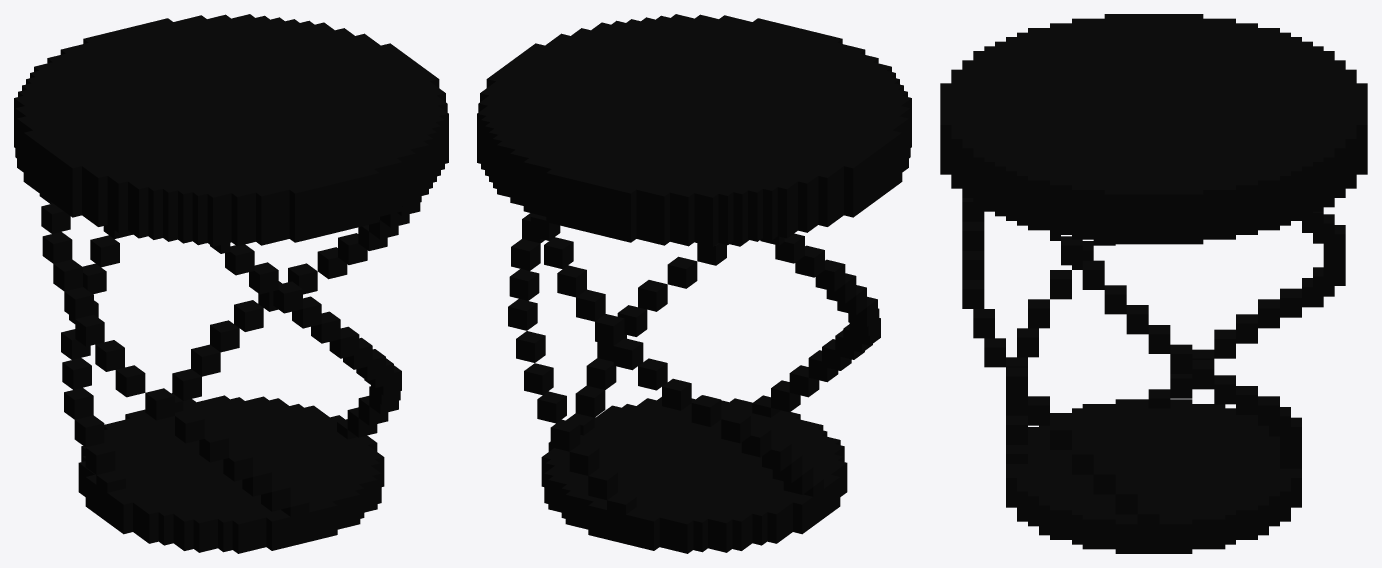
The model's file is JumpBlock.obj.
3 renders of one model, left to right at view 1: azimuth 30°, elevation 25°; view 2: azimuth 150°, elevation 25°; view 3: azimuth 270°, elevation 25°, orthographic.
Bounding box in the file's own units: 39 × 39 × 39.
